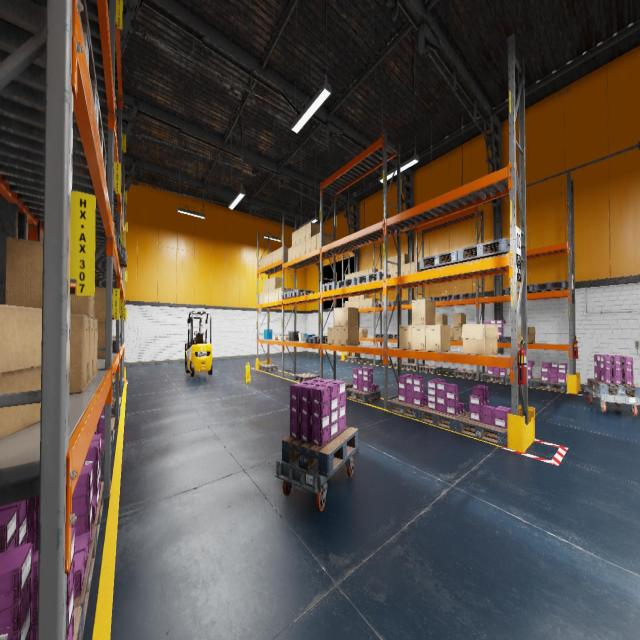box: (5, 237, 94, 318), (0, 304, 42, 440), (70, 314, 90, 394), (461, 324, 499, 355), (426, 325, 450, 351), (412, 298, 435, 324), (94, 287, 106, 322), (89, 317, 94, 383), (412, 325, 425, 350), (399, 325, 412, 350), (341, 307, 358, 326), (341, 326, 358, 345), (98, 323, 106, 358), (316, 232, 332, 249), (518, 327, 535, 343), (306, 222, 320, 240), (94, 318, 98, 378), (279, 287, 291, 300), (453, 314, 465, 327), (410, 262, 421, 274), (279, 247, 289, 260), (334, 326, 341, 344), (272, 277, 282, 289), (453, 327, 461, 341), (334, 308, 340, 326), (436, 315, 447, 324), (328, 326, 333, 344), (358, 328, 368, 337), (368, 298, 377, 308), (401, 253, 409, 264), (311, 235, 316, 251), (296, 228, 301, 244), (296, 242, 301, 258), (404, 262, 410, 274), (301, 225, 305, 242), (292, 230, 296, 247), (388, 256, 394, 267), (301, 240, 305, 255), (306, 238, 310, 253), (388, 267, 394, 277), (292, 245, 296, 259), (288, 247, 292, 261), (272, 250, 276, 263), (368, 268, 378, 273), (268, 290, 272, 302), (268, 278, 272, 290), (363, 299, 368, 308), (359, 299, 364, 308), (360, 294, 368, 299), (263, 255, 266, 268), (450, 327, 453, 340), (269, 252, 272, 264), (266, 254, 269, 266), (260, 257, 263, 269), (272, 289, 275, 301), (394, 266, 397, 277), (401, 264, 404, 275), (394, 255, 397, 266), (276, 248, 278, 262), (461, 327, 463, 341), (352, 300, 356, 307), (348, 300, 352, 307), (279, 336, 285, 340), (276, 288, 278, 300), (263, 291, 265, 303), (266, 279, 268, 291), (263, 280, 265, 292), (356, 300, 359, 308), (356, 271, 360, 277), (266, 291, 268, 302), (260, 293, 262, 303), (364, 269, 368, 274), (360, 270, 364, 275), (352, 272, 356, 277), (280, 333, 286, 336), (345, 301, 348, 307), (273, 336, 277, 340), (352, 296, 356, 300), (284, 337, 289, 340), (349, 273, 352, 278), (345, 274, 348, 279), (356, 296, 359, 300), (348, 297, 352, 300), (379, 269, 383, 272), (387, 258, 388, 268), (387, 268, 388, 274), (278, 336, 279, 339), (112, 324, 112, 353)
forklift: (185, 311, 212, 376)
pallets: (282, 426, 358, 477), (74, 526, 96, 640), (78, 0, 96, 120), (456, 412, 507, 447), (458, 238, 510, 263), (418, 405, 468, 431), (587, 379, 640, 397), (96, 90, 106, 180), (420, 250, 462, 271), (388, 398, 427, 419), (92, 482, 104, 550), (346, 388, 380, 403), (96, 418, 115, 444), (533, 378, 567, 392), (357, 272, 391, 284), (534, 280, 568, 292), (101, 437, 111, 475), (480, 372, 510, 384), (505, 376, 536, 387), (506, 284, 537, 294), (73, 606, 82, 640), (454, 369, 480, 379), (114, 232, 123, 259), (294, 373, 319, 382), (337, 277, 357, 288), (290, 289, 314, 298), (322, 281, 343, 291), (419, 365, 441, 373), (111, 397, 121, 414), (304, 336, 328, 343), (452, 293, 476, 300), (119, 247, 127, 267), (259, 364, 278, 371), (402, 363, 421, 370), (113, 377, 124, 389), (432, 295, 452, 301), (335, 381, 352, 388), (388, 362, 407, 368), (112, 340, 120, 352), (345, 356, 360, 362), (374, 302, 391, 307), (387, 301, 402, 306), (112, 339, 120, 348), (113, 337, 124, 343), (281, 292, 291, 298), (498, 337, 510, 342), (388, 334, 397, 338), (375, 334, 383, 338), (121, 268, 122, 279), (122, 273, 123, 283)
